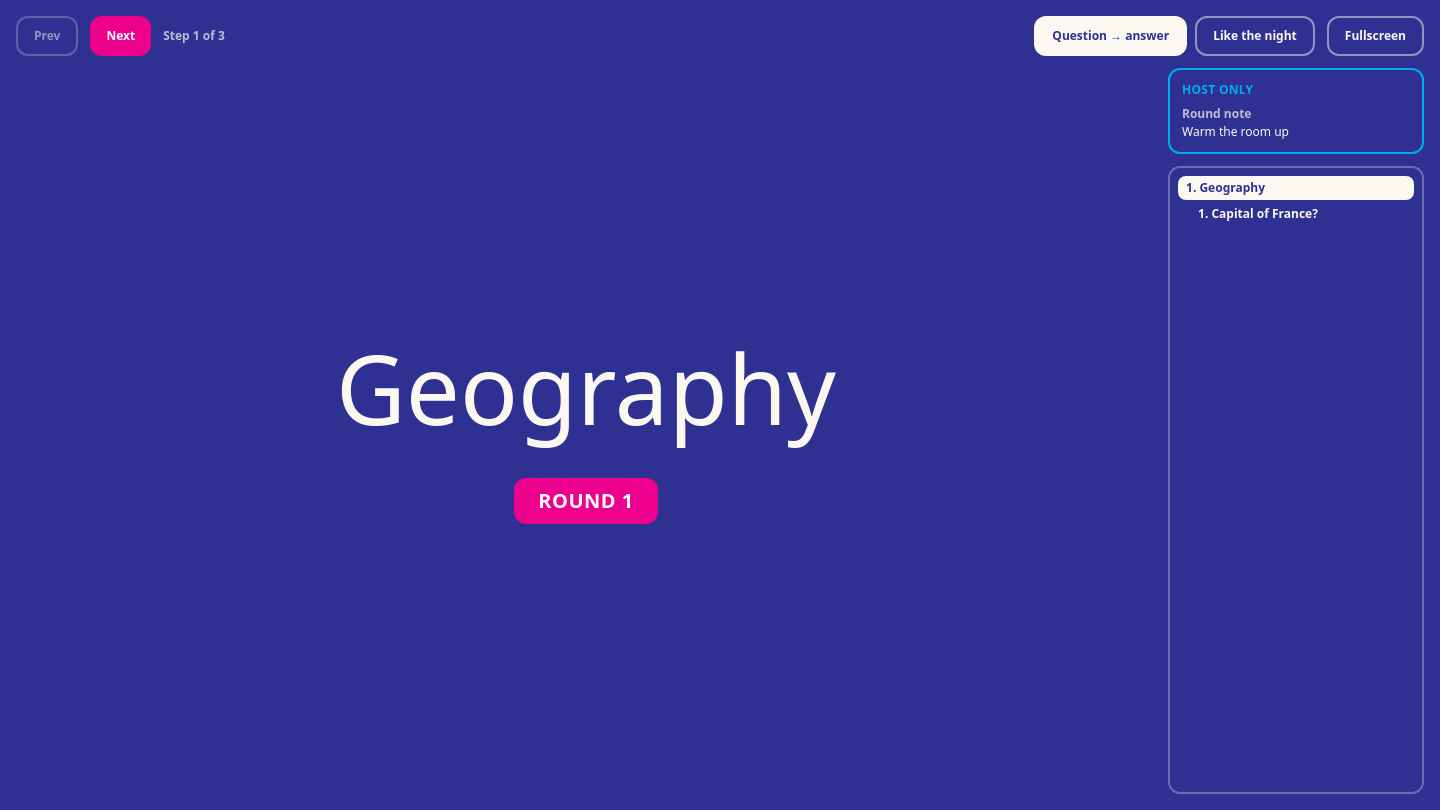
Scenario: QuizPreviewPanel › host-only panel › shows the round note on the title card and the question note on the question
Expected: the text "Warm the room up" is shown, [1182,123,1289,140]
Step 1. Click the button "Next" → (121, 36), box [90,16,151,56]
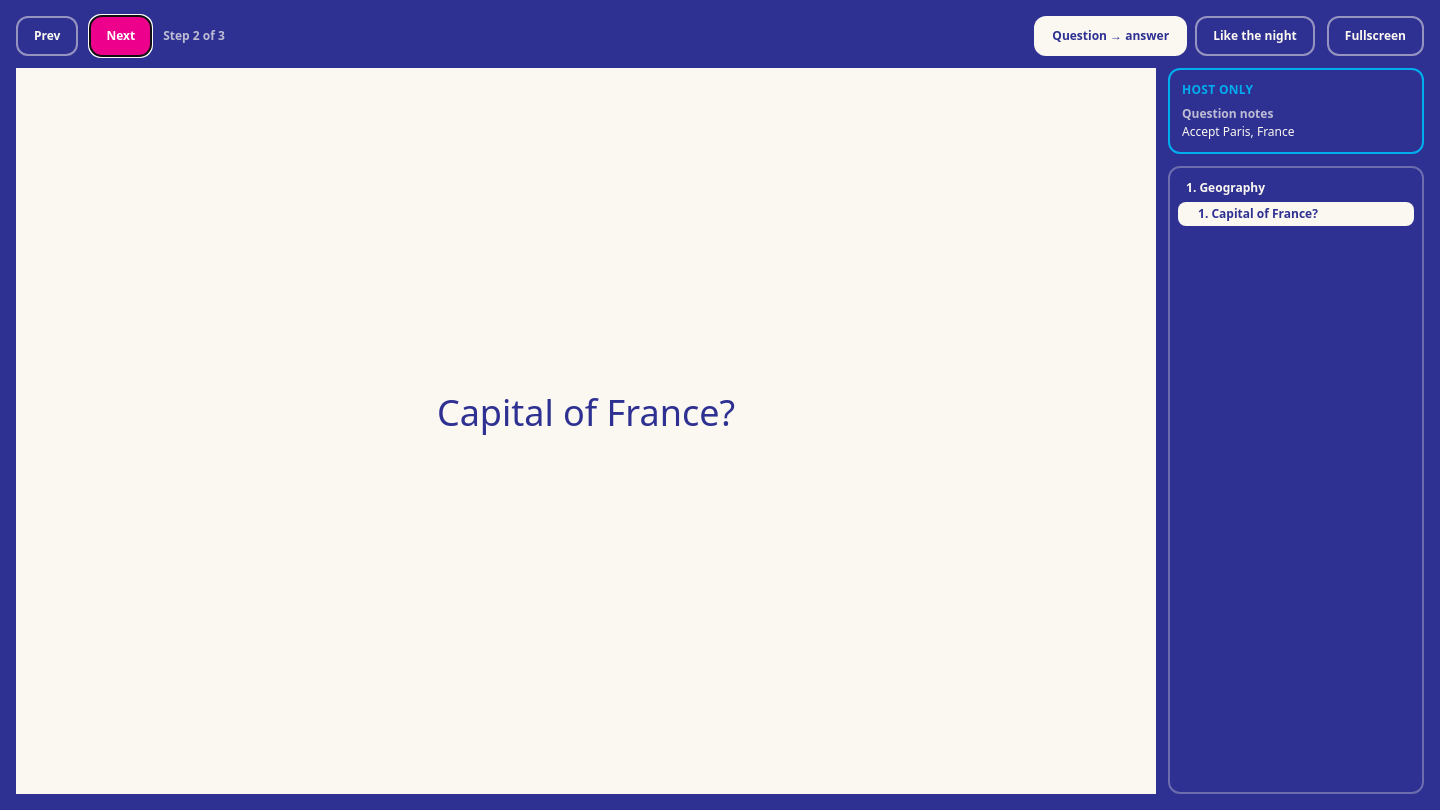
Now the text "Accept Paris, France" is shown, box [1182,123,1294,140]
Now the text "Warm the room up" is gone
